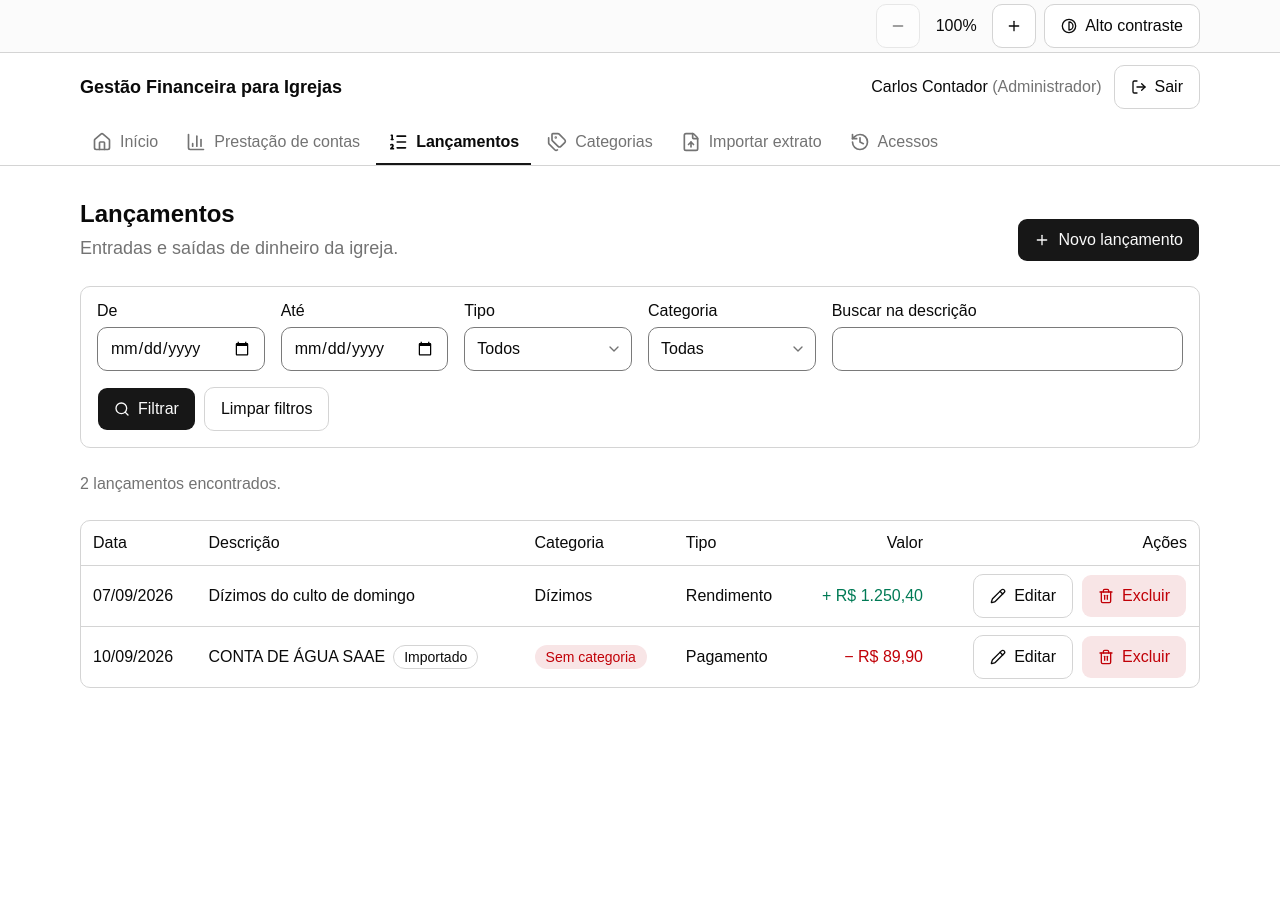
it: Página de lançamentos › trata como excluído o lançamento que já não existe no servidor
The image size is (1280, 900).
Click the button with aria-label "Excluir Dízimos do culto de domingo" at (1134, 596), box 1081,574 -> 1187,618
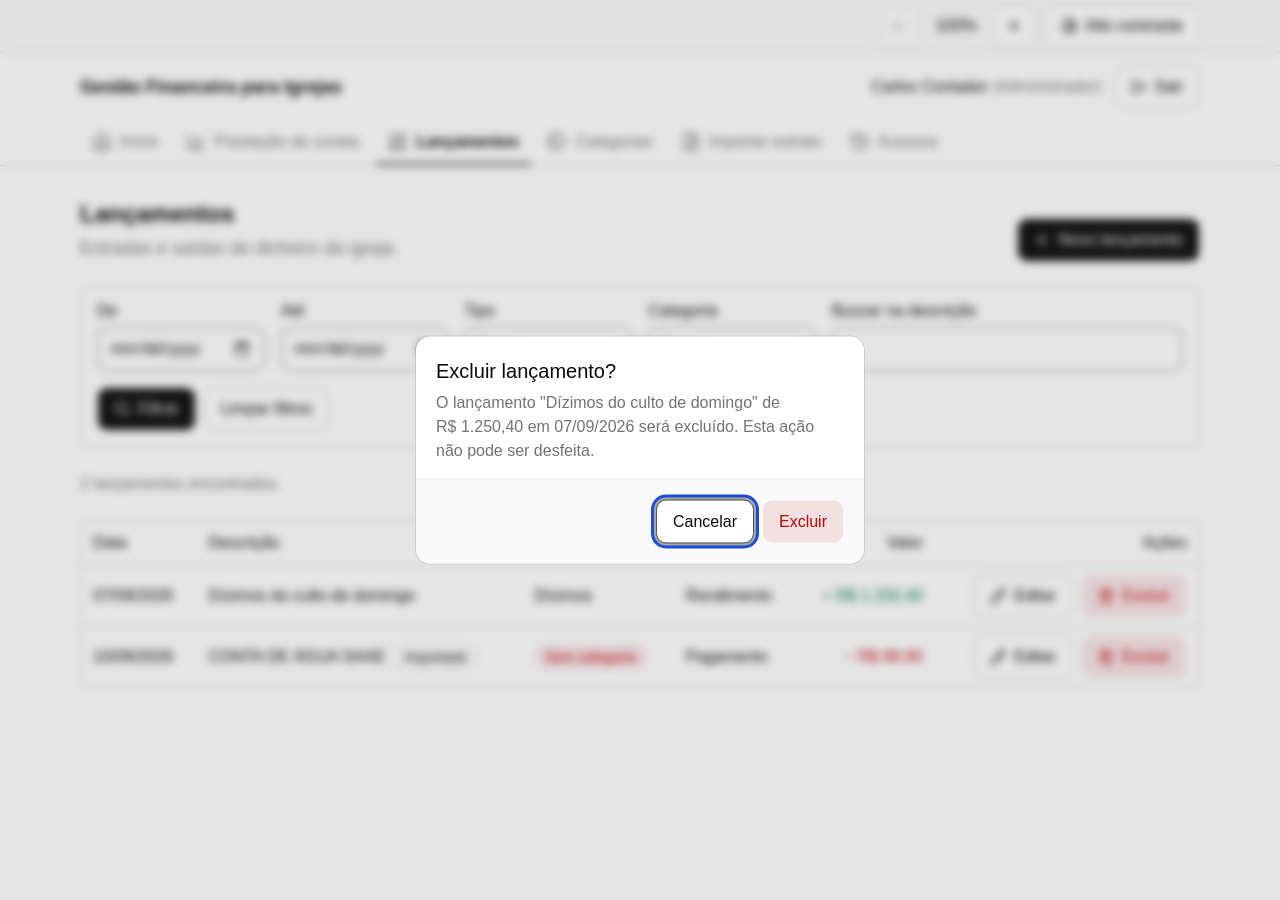
Click the button "Excluir" at (803, 522), box 762,500 -> 844,544
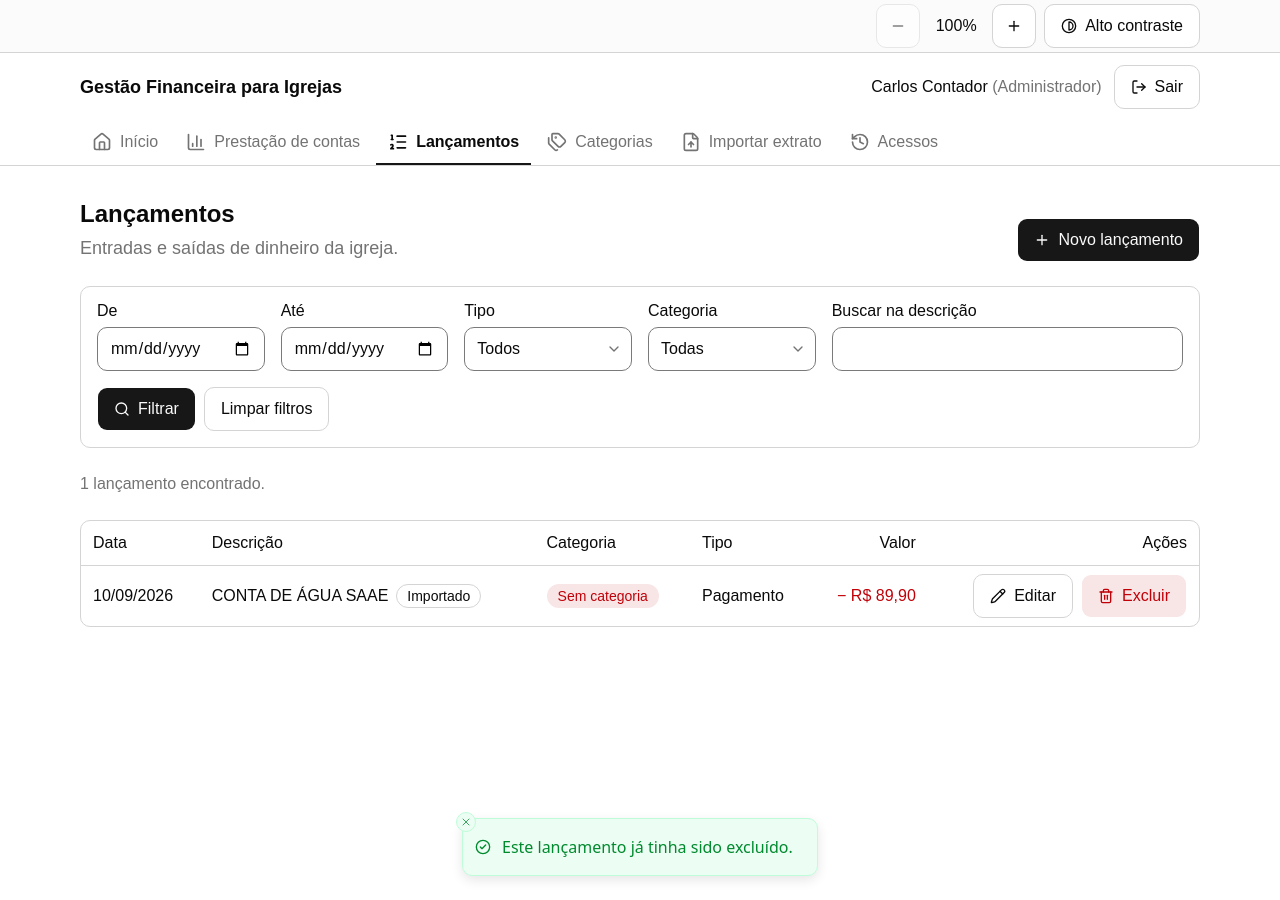
Expected: the text "Este lançamento já tinha sido excluído." is shown, 502,835 -> 793,859
